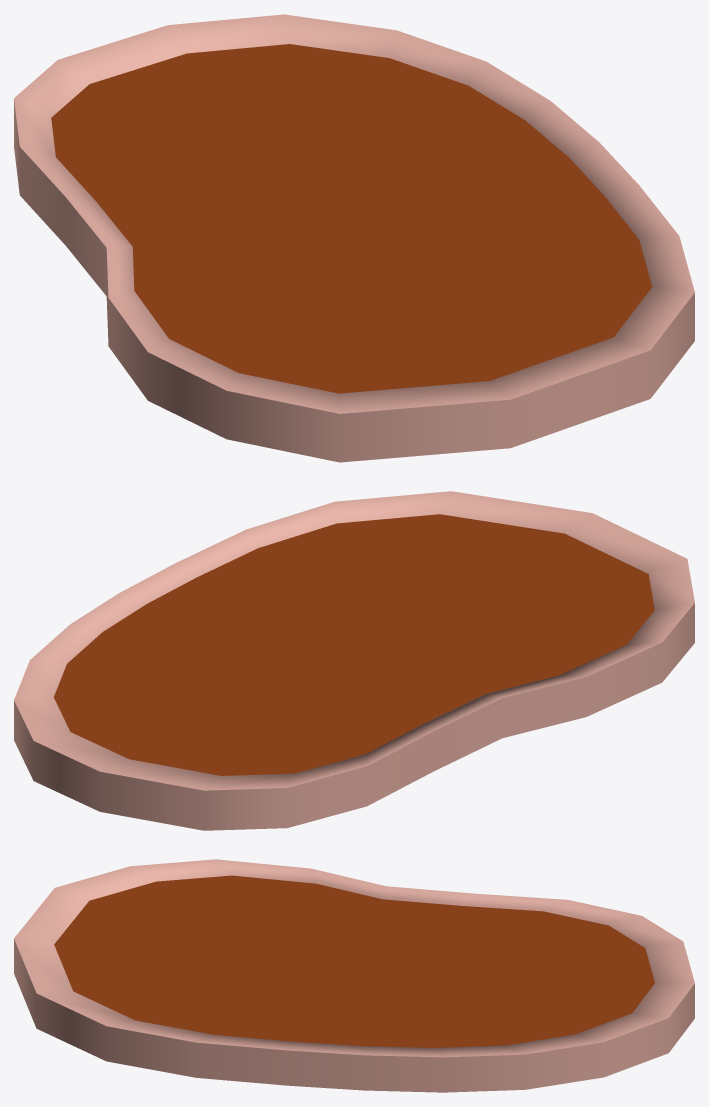
File: SM_Steak.fbx
3 renders of one model, top to bottom at view 1: azimuth 30°, elevation 25°; view 2: azimuth 150°, elevation 25°; view 3: azimuth 270°, elevation 25°, orthographic. The views are drawn at different scales.
Visible parts, largest first — view 1: Meat, Fat; view 2: Meat, Fat; view 3: Meat, Fat.
Boxes of the visible parts, x1,y1,x2,y2 form: Meat: (51, 44, 651, 393); Fat: (14, 14, 694, 462); Meat: (54, 514, 654, 775); Fat: (14, 491, 694, 830); Meat: (54, 875, 654, 1047); Fat: (14, 859, 694, 1092).
Size of the model in its own units: 16.56 by 1.41 by 24.07.
